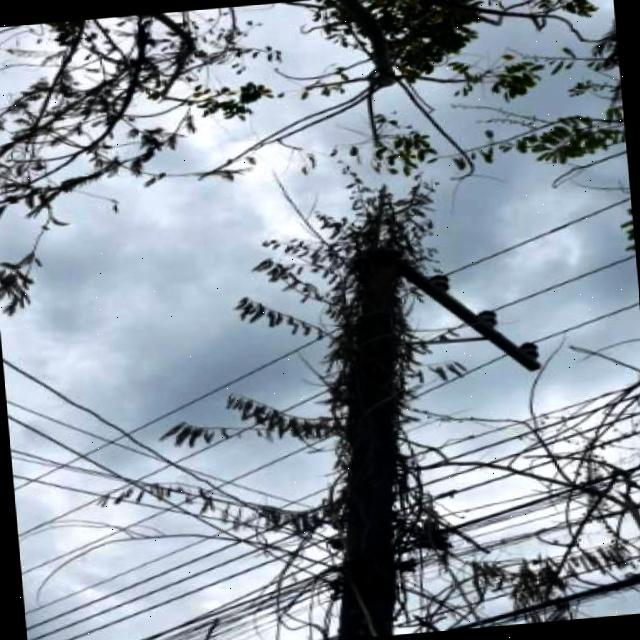critical vegetation: (256, 193, 453, 572)
